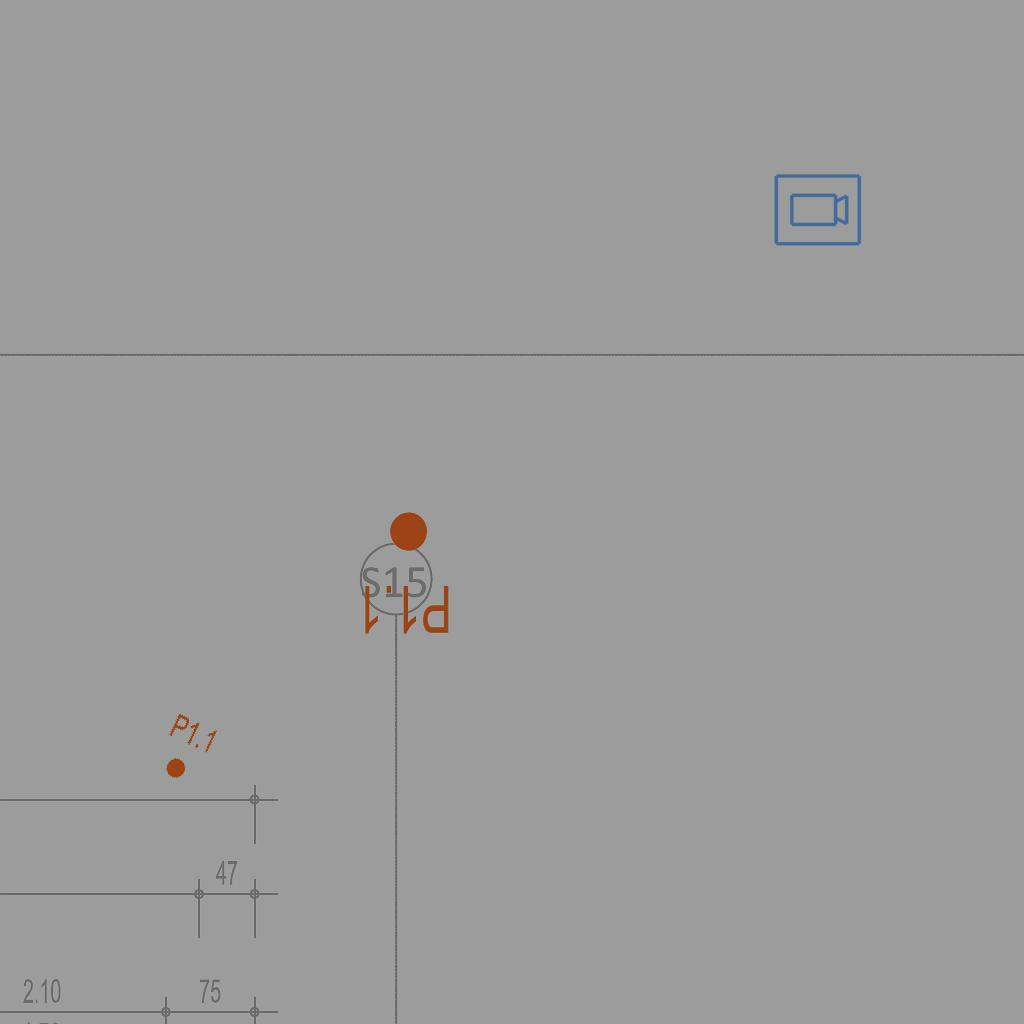Downlight_LED_Einbauleuchten_Flur: (359, 509, 452, 637), (151, 711, 221, 789)
KFO_Kamera_mit_Festobjektiv: (772, 172, 863, 249)
